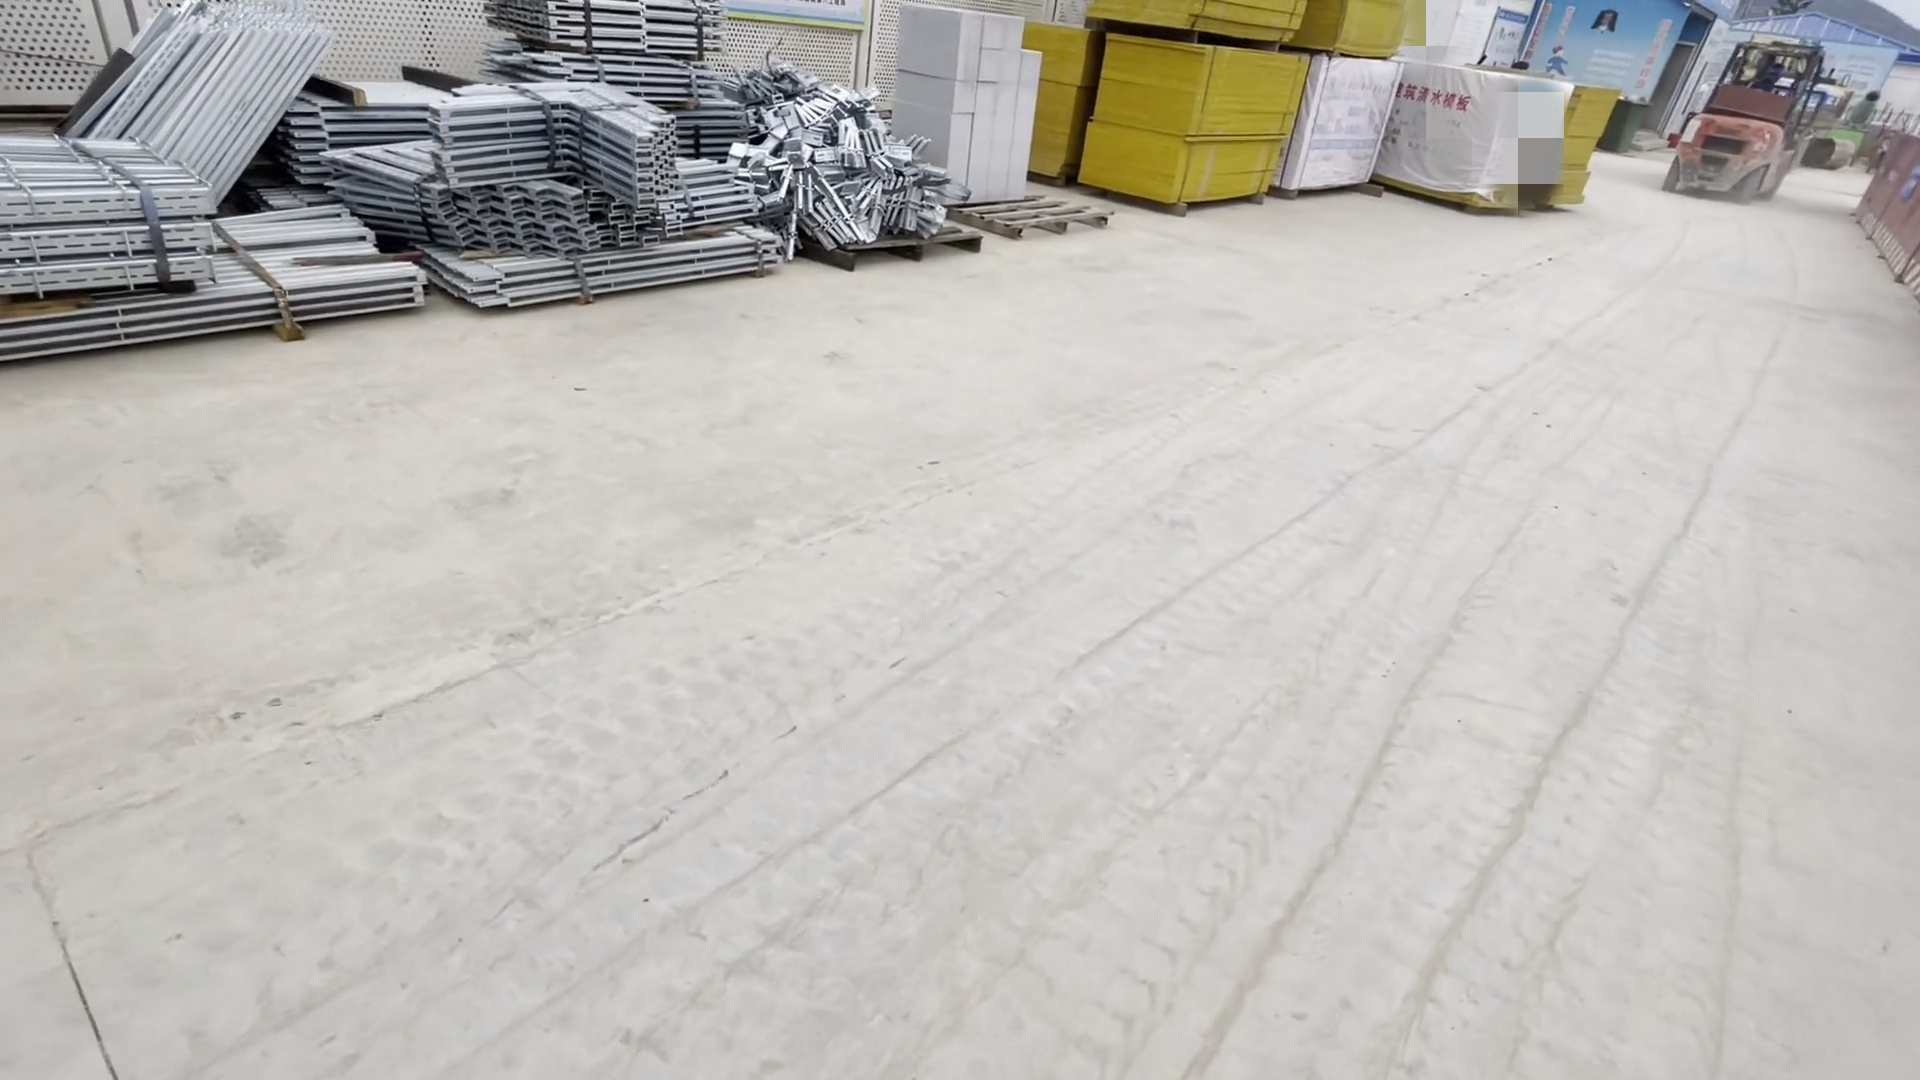board: (1088, 3, 1304, 222)
brick: (902, 7, 1047, 227)
scaffold: (12, 7, 949, 405)
